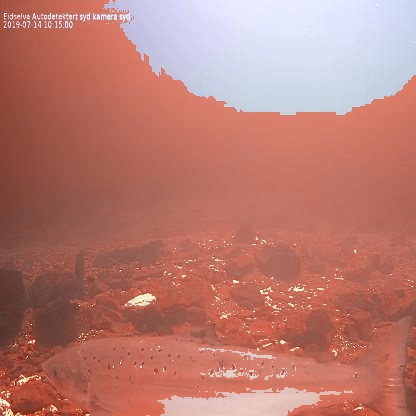salmon: (38, 312, 416, 416)
